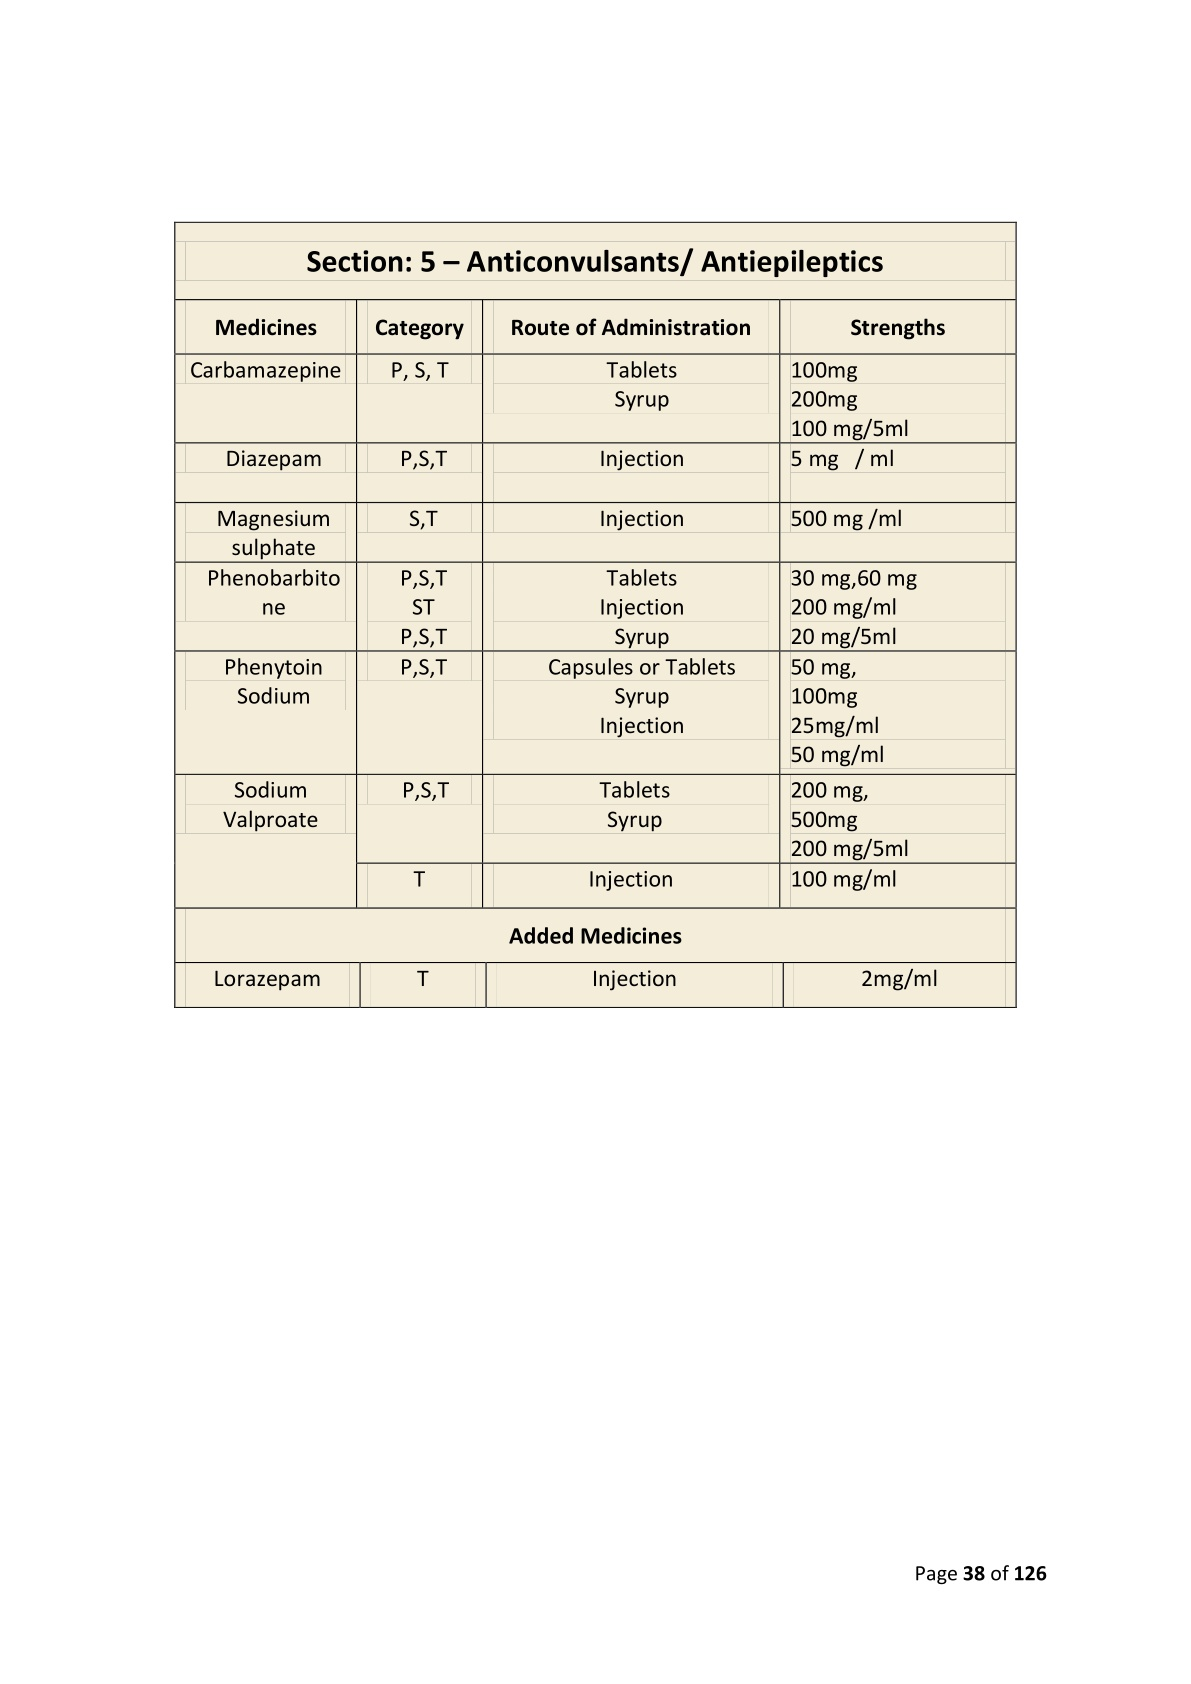merged_cells: (171, 222, 1017, 1009)
